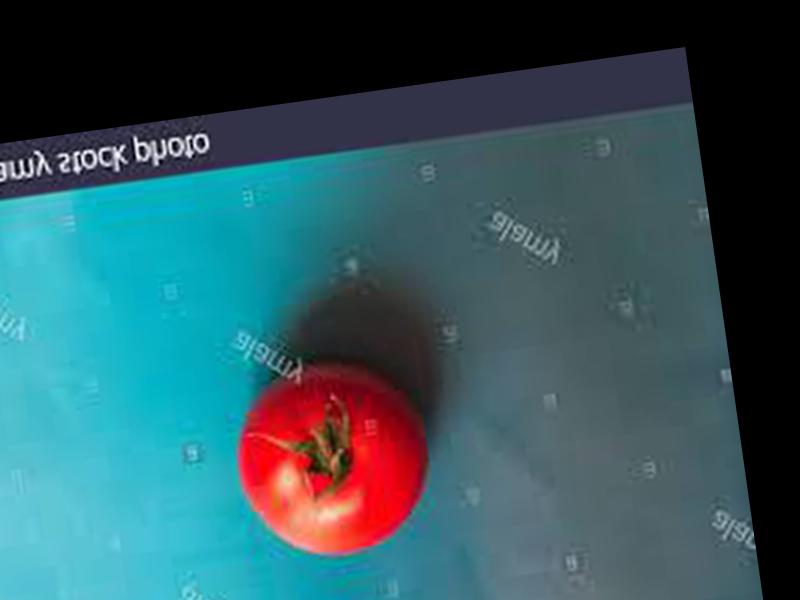Tomato: (226, 350, 437, 568)
